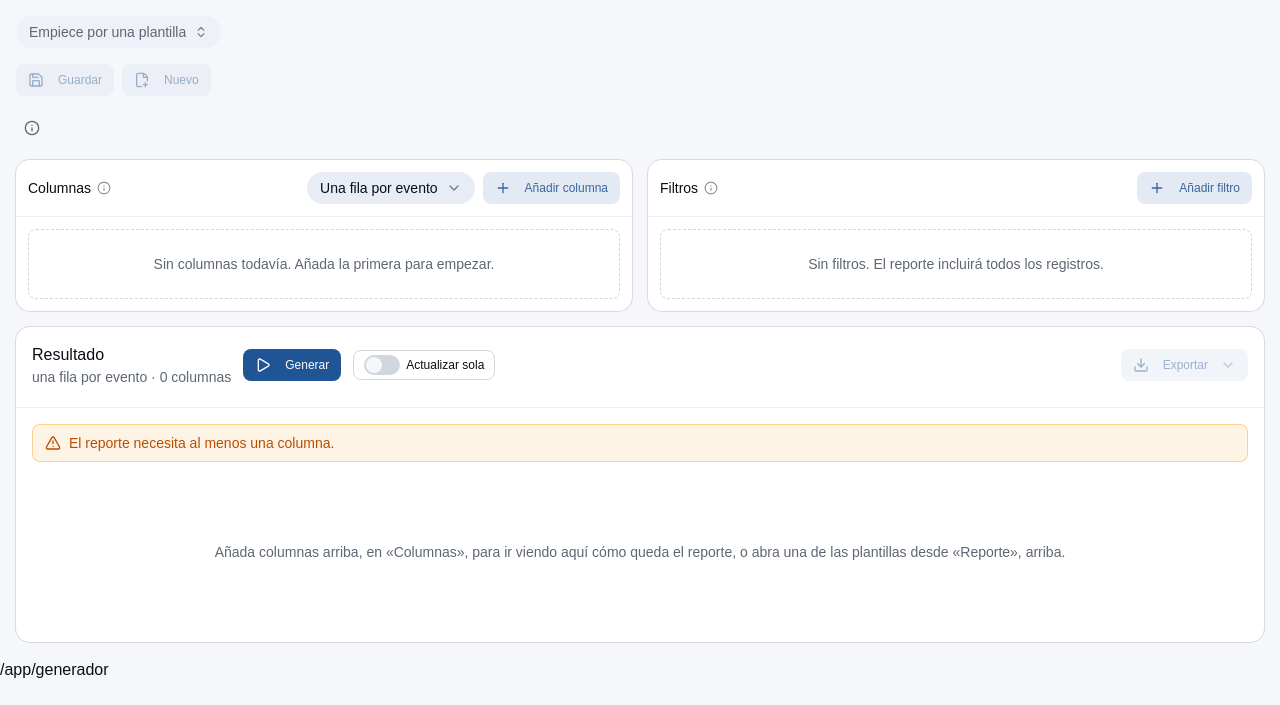
running a report › keeps edits made while the query is in flight
Expected: the button "Generar" is shown, [243,349,341,381]
Click the button "Añadir columna". click: click(551, 188)
box: [483,172,620,204]
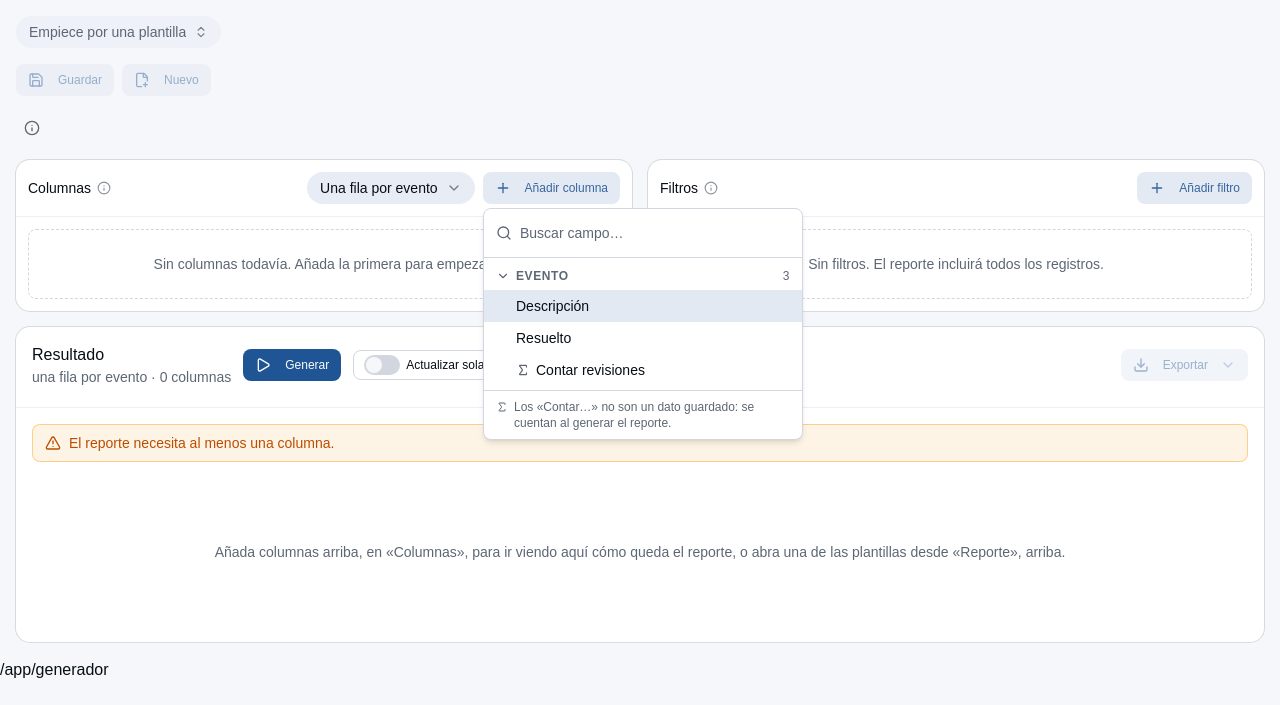
Click the option "Descripción". click: click(553, 306)
box: [484,290,802,322]
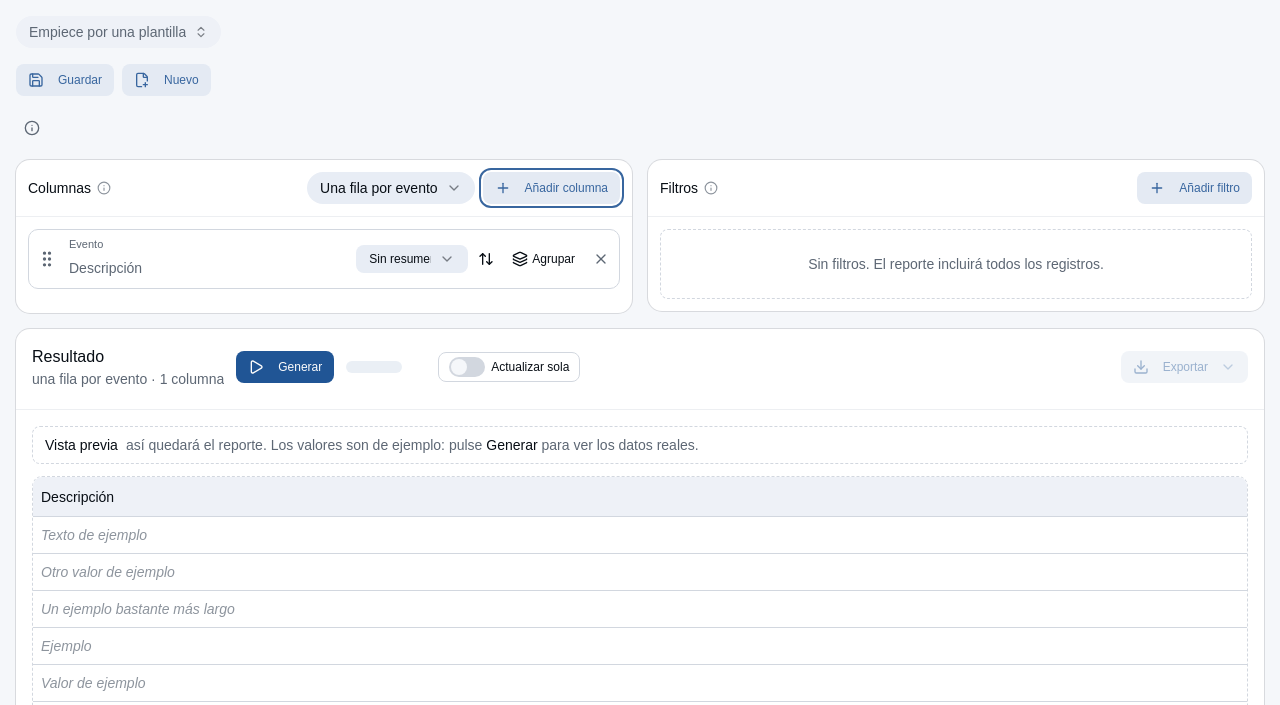
Click the button "Generar". click: click(285, 367)
box: [236,351,334,383]
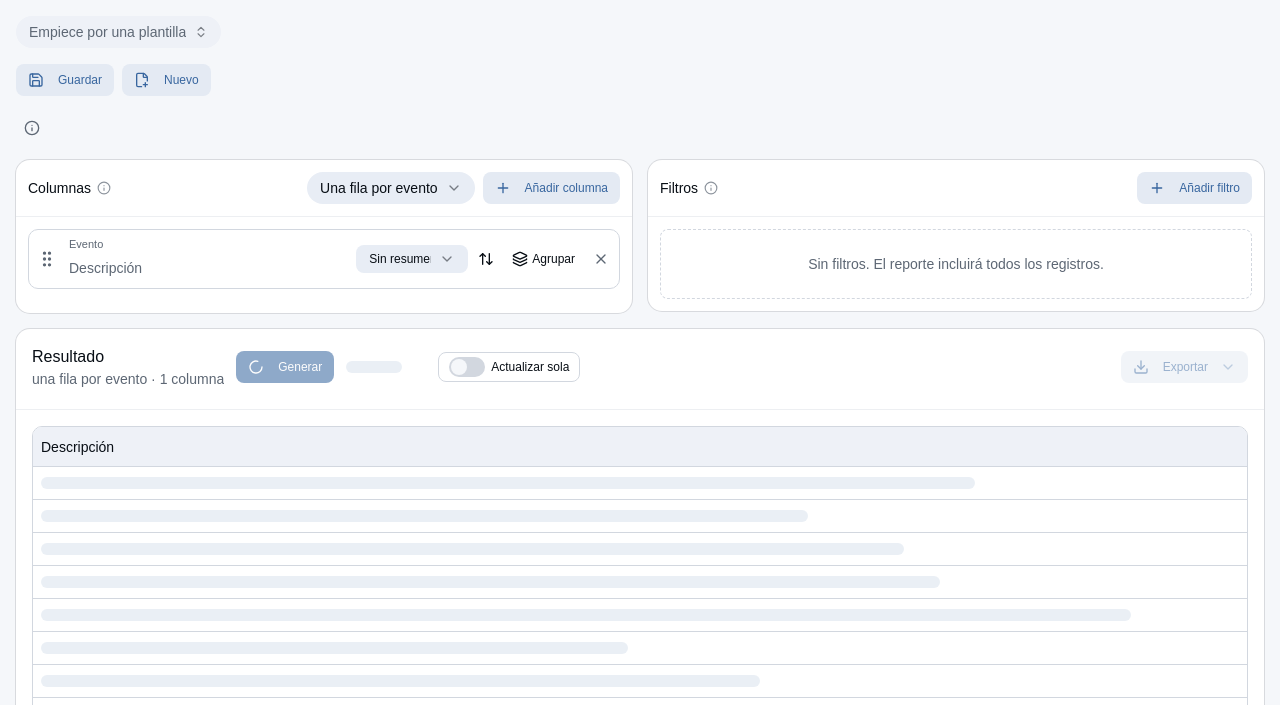
Click the button "Añadir columna". click: click(551, 188)
box: [483,172,620,204]
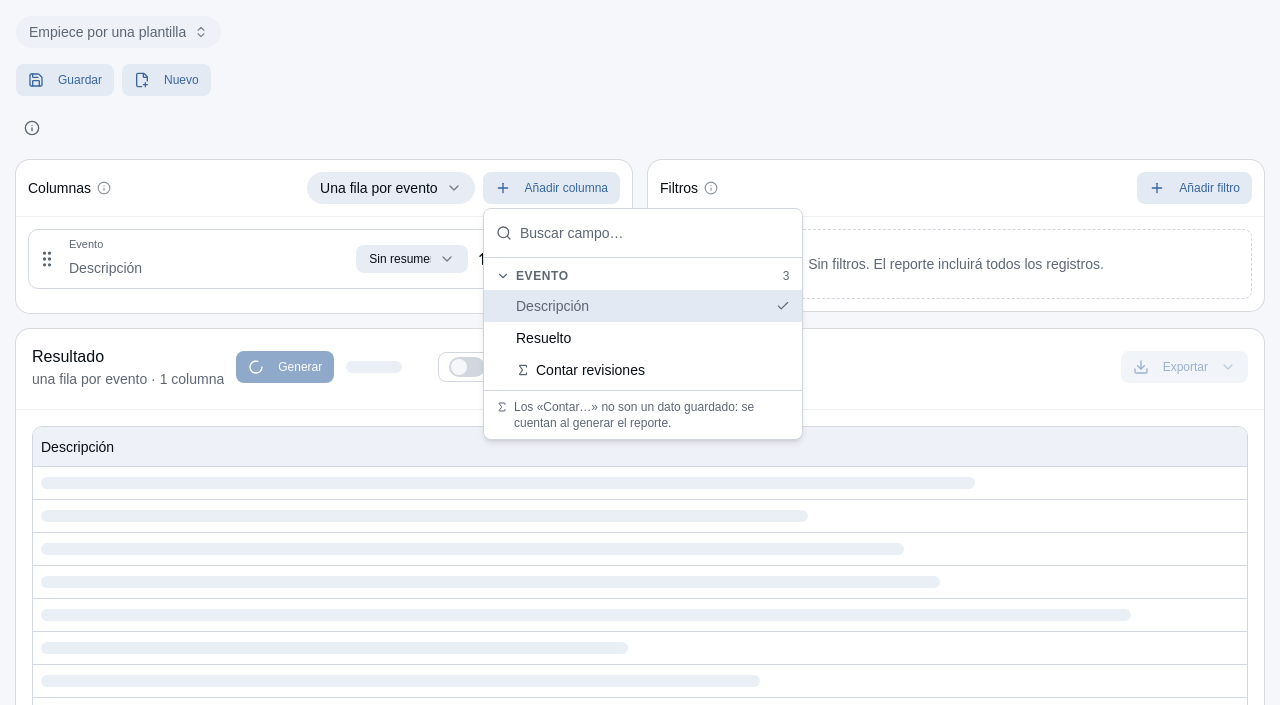
Click the option "Resuelto". click: click(544, 338)
box: [516,330,571,346]
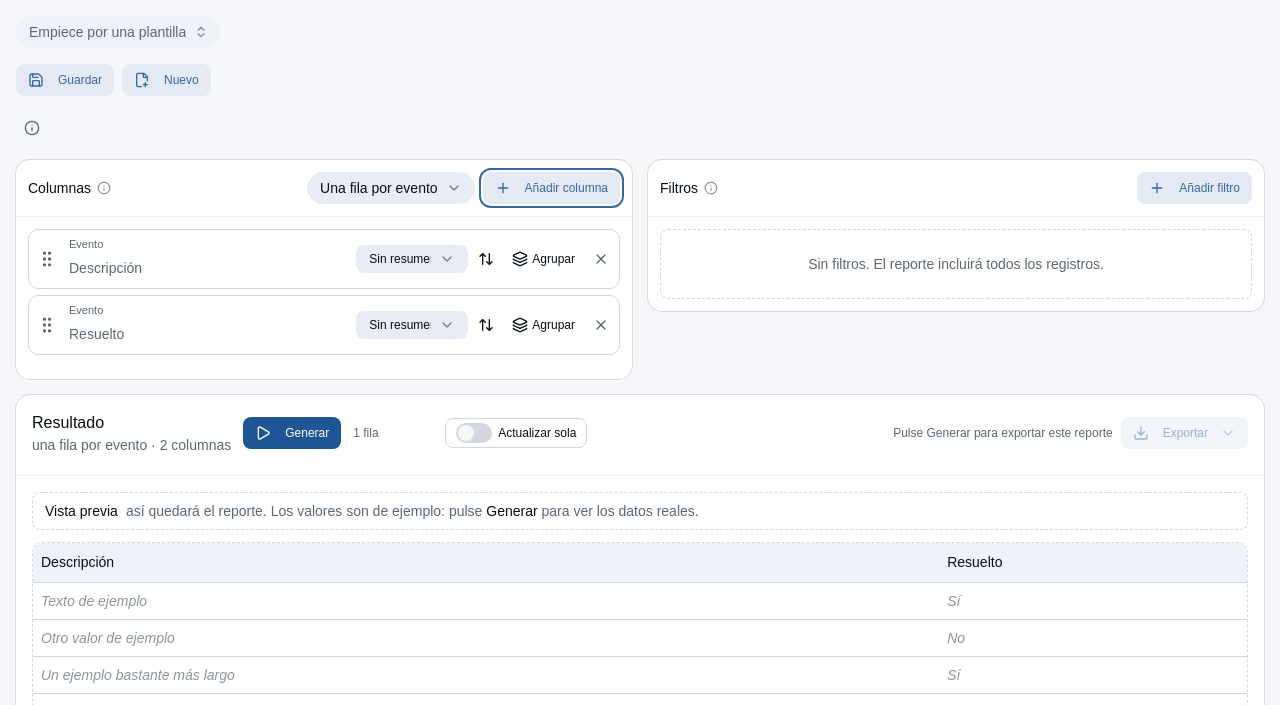
Now the field named "Nombre de la columna Resuelto" is shown, box [61,322,352,346]
